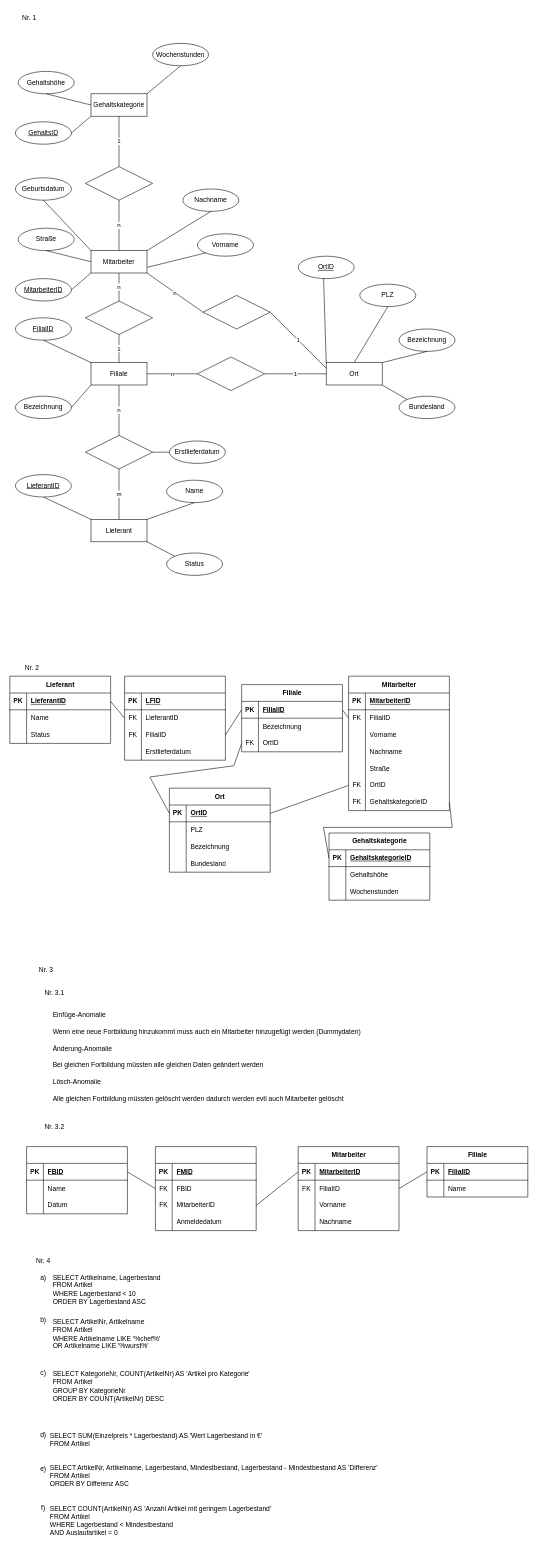
Some shapes in this 538 by 1546 pixel diagram are drawn without their labels. Each missing label, with the box of its shape:
arbeitetIn: (85, 300, 153, 335)
bekommt: (85, 166, 153, 200)
Fortbildung: (26, 1146, 127, 1214)
FortbildungMitarbeiter: (155, 1146, 256, 1231)
LieferantFiliale: (124, 676, 225, 760)
liefertZu: (85, 435, 153, 469)
liegtIn: (197, 356, 265, 391)
wohntIn: (202, 295, 270, 329)
